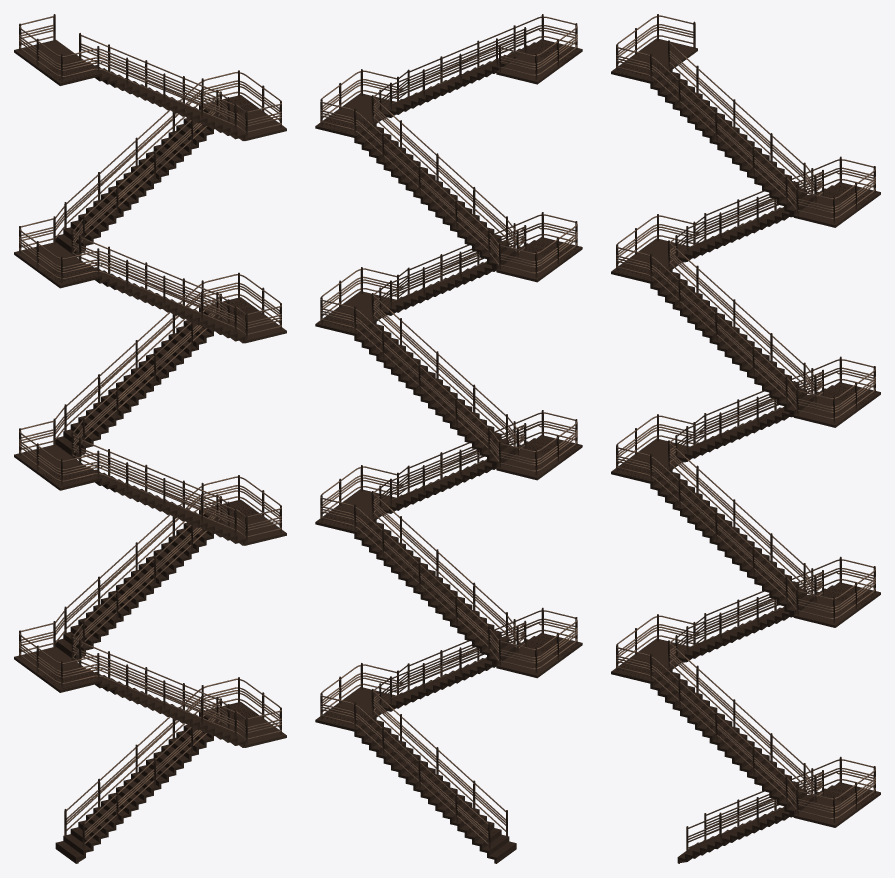
File: stairs_bun.fbx
The picture shows the model from 3 angles, left to right: view 1: azimuth 30°, elevation 25°; view 2: azimuth 150°, elevation 25°; view 3: azimuth 330°, elevation 25°; orthographic projection. The views are drawn at different scales.
Parts seen in each view (by area): view 1: Cube.004, Cube.015, Cylinder.059; view 2: Cube.004, Cube.015, Cylinder.059; view 3: Cube.004, Cube.015, Cylinder.059.
Part boxes in pixels (x1,y1,x2,y2): Cube.004: (14, 14, 286, 863); Cube.015: (19, 16, 281, 844); Cylinder.059: (55, 91, 245, 739); Cube.004: (315, 14, 582, 863); Cube.015: (320, 16, 577, 844); Cylinder.059: (373, 71, 525, 710); Cube.004: (611, 14, 880, 863); Cube.015: (616, 15, 875, 848); Cylinder.059: (670, 164, 823, 809).
Size of the model in its own units: 9404 by 33119 by 3309.
